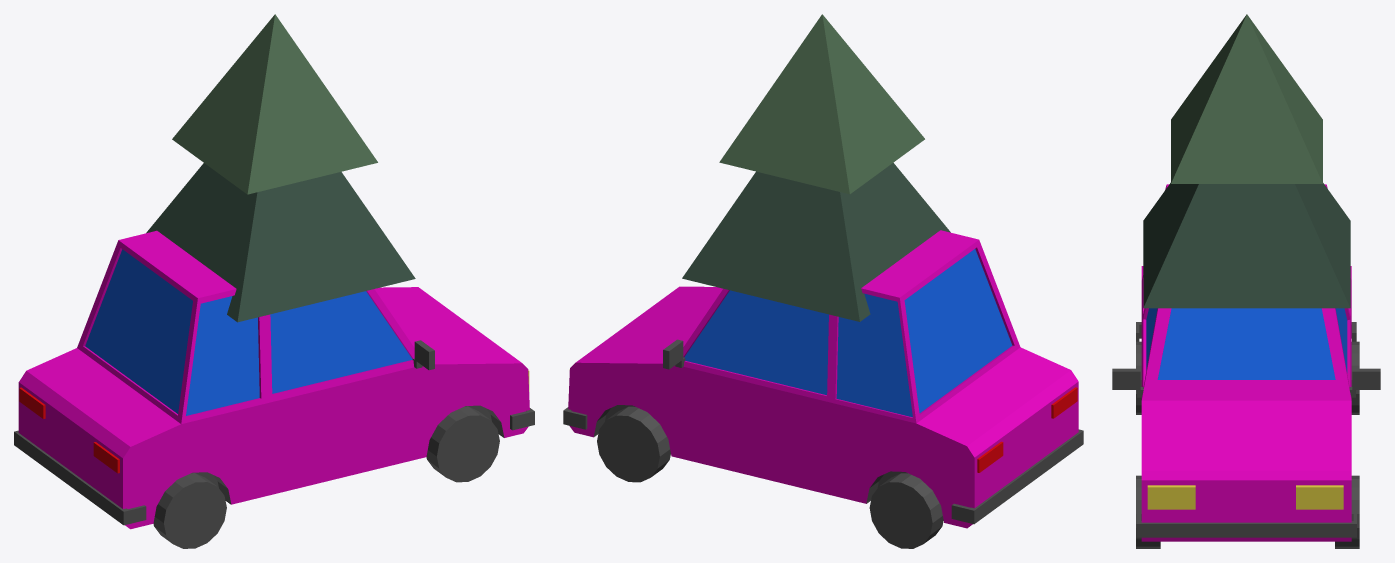
File: models.glb
The picture shows the model from 3 angles, left to right: view 1: azimuth 30°, elevation 25°; view 2: azimuth 150°, elevation 25°; view 3: azimuth 270°, elevation 25°; orthographic projection.
Parts seen in each view (by area): view 1: car, tree; view 2: car, tree; view 3: car, tree.
Boxes of the visible parts, <box> form: car: <box>14,230,534,548</box>; tree: <box>146,14,415,322</box>; car: <box>563,230,1083,548</box>; tree: <box>682,14,950,321</box>; car: <box>1112,184,1380,548</box>; tree: <box>1143,14,1350,308</box>.
Size of the model in its own units: 6.12 by 6.56 by 3.44.
